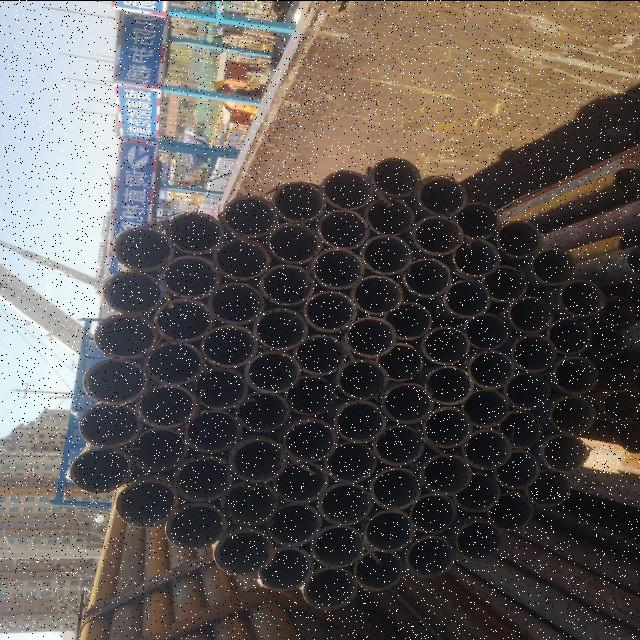pipe: (111, 477, 178, 527), (164, 501, 228, 548), (212, 527, 274, 575), (110, 224, 174, 270), (82, 358, 146, 404), (94, 313, 158, 357), (128, 427, 190, 472), (102, 270, 166, 313), (78, 403, 140, 447), (68, 448, 130, 492), (136, 383, 196, 427), (184, 408, 242, 452), (174, 456, 232, 500), (152, 297, 210, 341), (160, 255, 218, 298), (230, 437, 286, 481), (212, 236, 268, 280), (145, 342, 203, 384), (266, 502, 322, 545), (168, 210, 224, 253), (318, 481, 372, 525), (303, 566, 357, 610), (303, 288, 357, 332), (282, 417, 336, 461), (256, 546, 310, 590), (208, 280, 262, 324), (220, 481, 276, 523), (252, 307, 308, 349), (200, 325, 256, 367), (243, 351, 300, 392), (344, 316, 398, 357), (405, 534, 455, 578), (370, 466, 420, 510), (333, 400, 388, 440), (420, 452, 472, 494), (381, 380, 433, 422), (336, 357, 388, 399), (310, 525, 362, 567), (312, 246, 364, 288), (268, 221, 320, 263), (284, 374, 338, 414), (274, 461, 328, 501), (259, 264, 313, 304), (421, 407, 473, 448), (236, 391, 288, 432), (273, 180, 325, 221), (193, 368, 245, 409), (359, 233, 412, 273), (364, 508, 414, 550), (372, 423, 422, 465), (322, 168, 372, 210), (223, 194, 273, 236), (362, 195, 414, 235), (322, 441, 374, 481), (317, 208, 369, 248), (450, 470, 500, 511), (462, 428, 512, 469), (294, 332, 344, 373), (351, 274, 403, 313), (548, 393, 598, 433), (492, 448, 542, 488), (441, 277, 491, 317), (412, 214, 462, 254), (460, 388, 512, 426), (416, 175, 468, 212), (552, 354, 600, 394), (424, 364, 472, 404), (410, 492, 458, 532), (354, 549, 402, 589), (371, 156, 419, 196), (502, 372, 552, 410), (402, 258, 452, 296), (486, 491, 534, 530), (454, 520, 498, 562), (376, 339, 420, 381), (558, 277, 604, 317), (546, 316, 594, 354), (497, 410, 545, 448), (452, 238, 500, 276), (384, 300, 432, 338), (481, 263, 527, 302), (511, 333, 558, 371), (422, 325, 469, 363), (542, 433, 588, 471), (496, 219, 542, 257), (508, 294, 554, 332), (468, 350, 514, 388), (454, 201, 499, 237), (530, 246, 574, 282), (464, 312, 508, 348), (590, 324, 628, 358), (604, 294, 640, 326), (603, 390, 639, 420), (590, 357, 616, 389), (611, 167, 639, 193), (616, 229, 640, 250), (626, 245, 640, 274)
